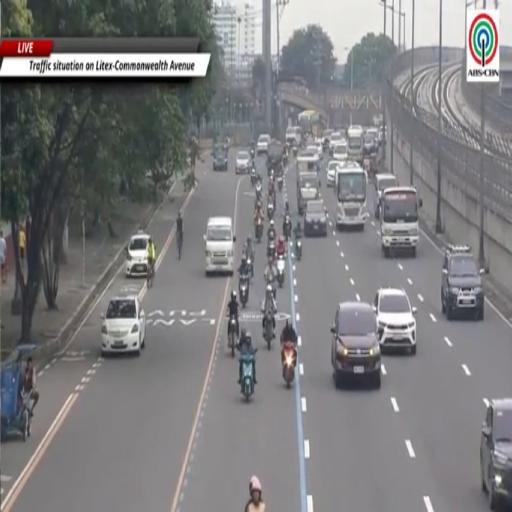bus: (335, 162, 368, 230), (298, 110, 321, 136), (348, 126, 363, 165)
car: (331, 301, 381, 388), (480, 398, 511, 510), (441, 246, 485, 321), (374, 288, 416, 355), (102, 295, 146, 356), (126, 231, 149, 277), (375, 173, 398, 218), (304, 199, 327, 237), (213, 147, 228, 171), (330, 132, 345, 155), (236, 151, 251, 173), (333, 141, 348, 162), (327, 160, 339, 186), (308, 138, 323, 158), (363, 134, 377, 155), (306, 142, 323, 159), (322, 129, 334, 152), (257, 134, 270, 155)
motorcycle: (240, 348, 258, 401), (282, 342, 296, 388), (264, 309, 273, 350), (228, 316, 237, 357), (239, 275, 249, 308), (277, 256, 285, 287), (283, 215, 292, 242), (255, 218, 263, 243), (267, 280, 276, 300), (247, 253, 254, 278), (295, 237, 302, 260), (267, 199, 274, 221), (267, 240, 275, 258), (255, 182, 262, 200), (251, 168, 257, 186), (277, 175, 283, 192), (283, 154, 288, 165), (293, 146, 297, 156), (251, 149, 254, 159)
tricycle: (0, 344, 36, 441)
truck: (380, 187, 422, 258), (297, 171, 319, 215)
